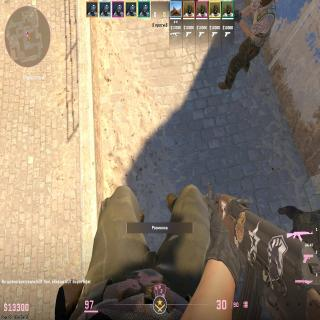CT-Body: (279, 202, 320, 248)
T-Body: (230, 0, 278, 80)
T-Head: (259, 0, 273, 8)
